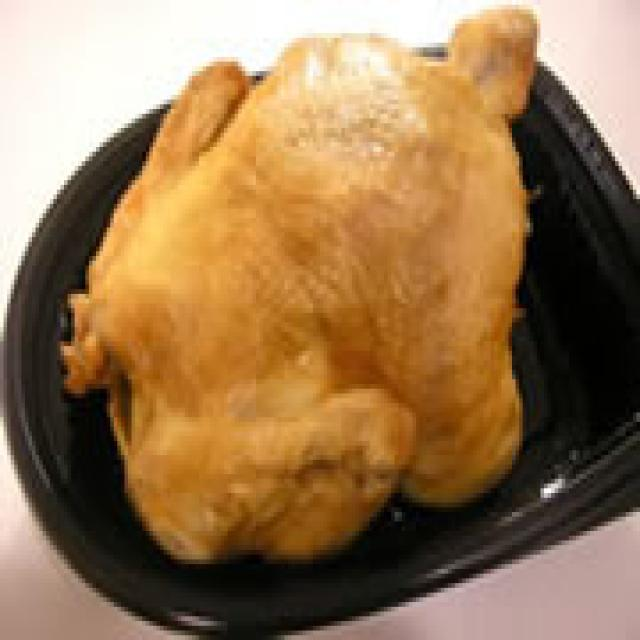Chicken: (62, 36, 571, 564)
